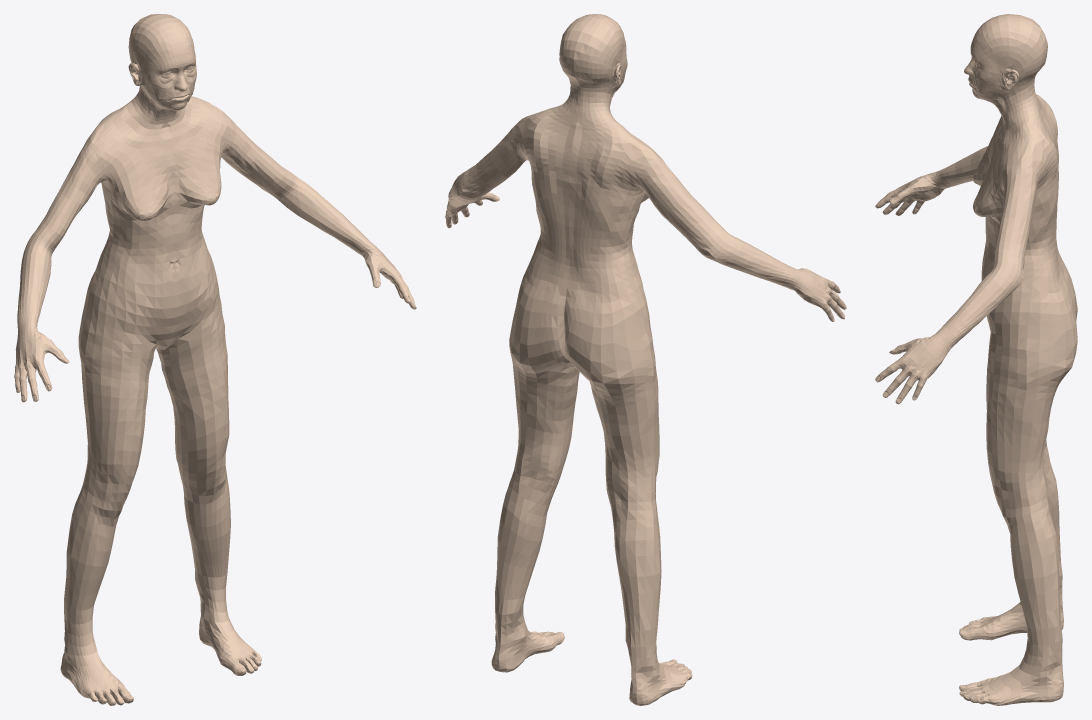
File: female-elder-average-medium.glb
The picture shows the model from 3 angles, left to right: view 1: azimuth 30°, elevation 25°; view 2: azimuth 150°, elevation 25°; view 3: azimuth 270°, elevation 25°; orthographic projection.
Visible parts, largest first — view 1: world; view 2: world; view 3: world.
Boxes of the visible parts, box(x1,y1,x2,y2) form: world: box(14, 14, 416, 705); world: box(445, 14, 846, 705); world: box(875, 14, 1077, 705).
Bounding box in the file's own units: 1.13 × 1.8 × 0.5089.
